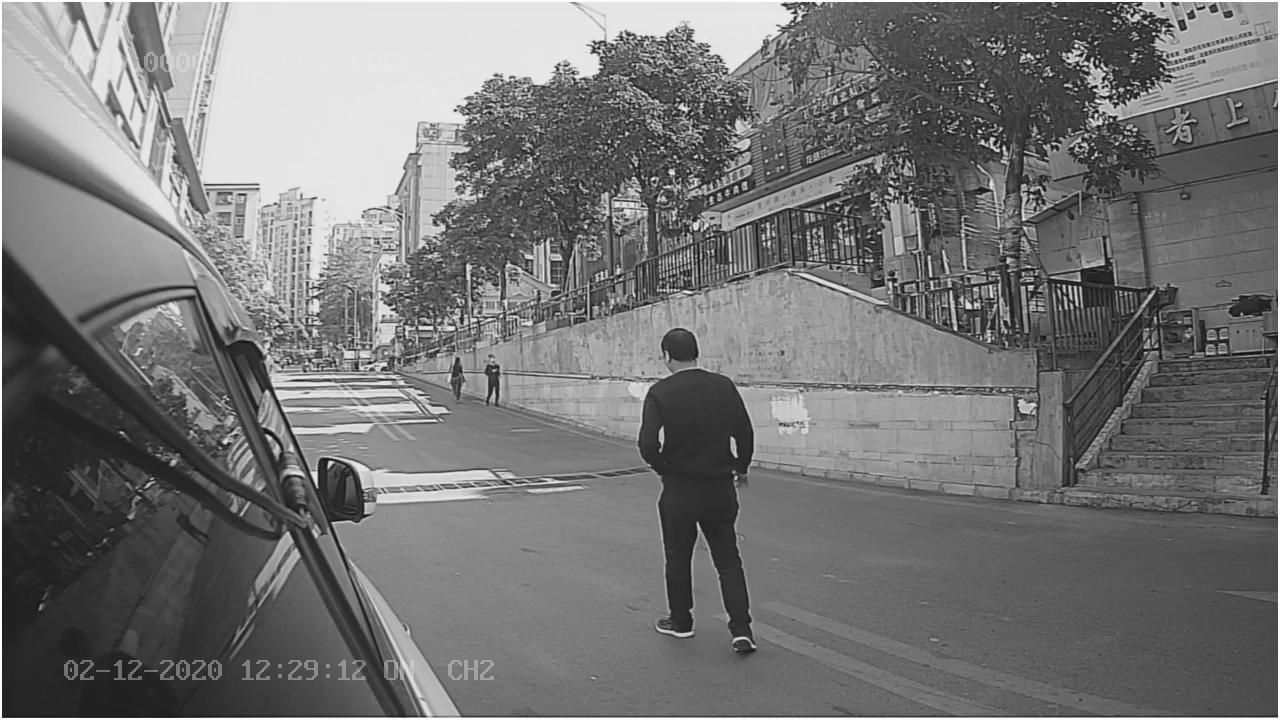person: (632, 328, 775, 658)
